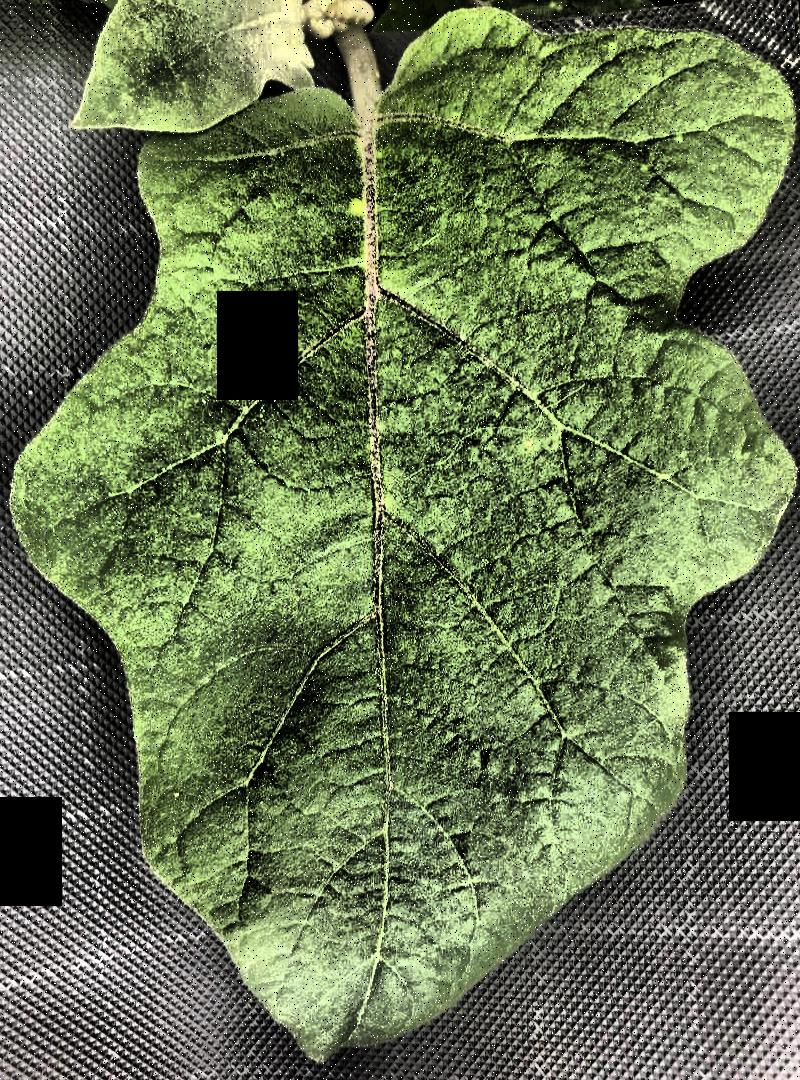HEALTHY: (0, 1, 800, 1080)
